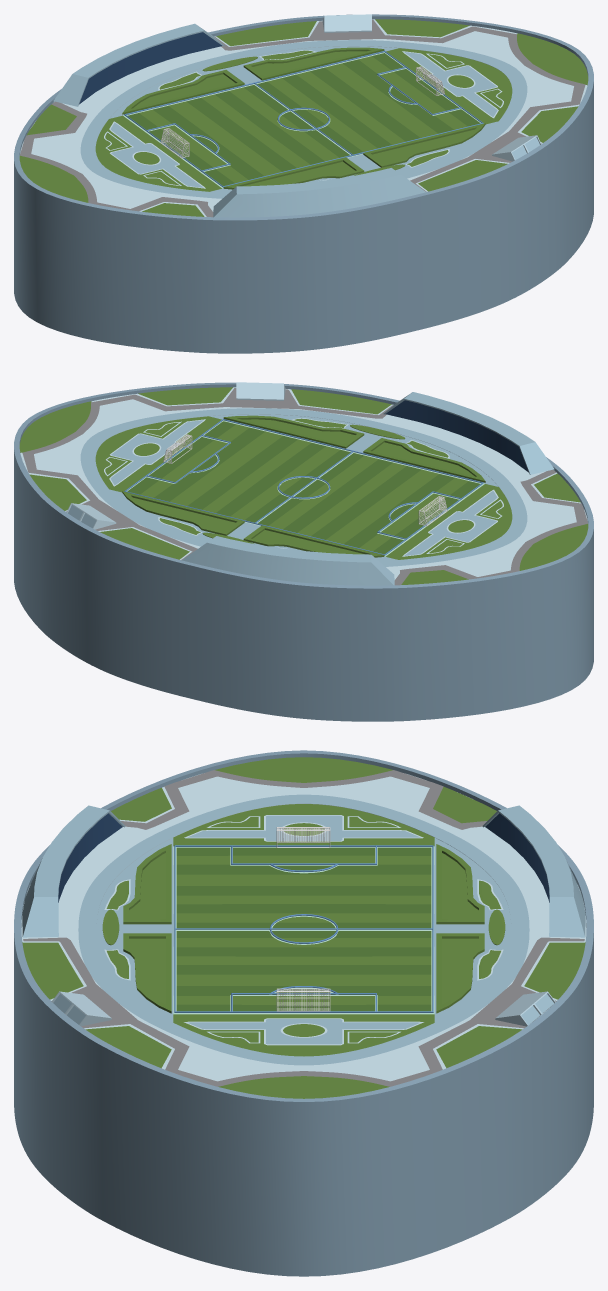
File: Football.fbx
3 views of the same model, one above another, from view 1: azimuth 30°, elevation 25°; view 2: azimuth 150°, elevation 25°; view 3: azimuth 270°, elevation 25° (orthographic). The views are drawn at different scales.
Parts seen in each view (by area): view 1: Football, Ground_Center, Holo_Line, Gates; view 2: Football, Ground_Center, Holo_Line, Gates; view 3: Football, Ground_Center, Holo_Line, Gates.
Part boxes in pixels (bbox=[...]): Football: bbox=[19, 14, 588, 217]; Ground_Center: bbox=[14, 14, 593, 353]; Holo_Line: bbox=[124, 50, 483, 187]; Gates: bbox=[160, 66, 444, 158]; Football: bbox=[19, 382, 588, 585]; Ground_Center: bbox=[14, 382, 593, 721]; Holo_Line: bbox=[124, 419, 483, 555]; Gates: bbox=[163, 434, 447, 526]; Football: bbox=[21, 757, 586, 1098]; Ground_Center: bbox=[14, 750, 593, 1276]; Holo_Line: bbox=[174, 845, 433, 1012]; Gates: bbox=[276, 827, 330, 1011].
Bounding box in the file's own units: 10829 × 2878 × 7546.
Materials: 1 (1 with a texture image).
